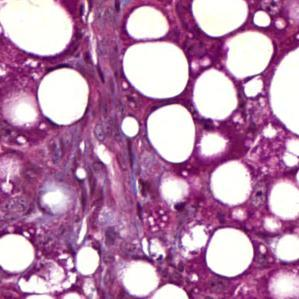steatosis: (125, 37, 193, 98), (144, 103, 201, 168), (40, 66, 90, 127), (206, 224, 256, 279), (195, 68, 238, 126), (210, 160, 251, 205), (0, 227, 35, 276)
